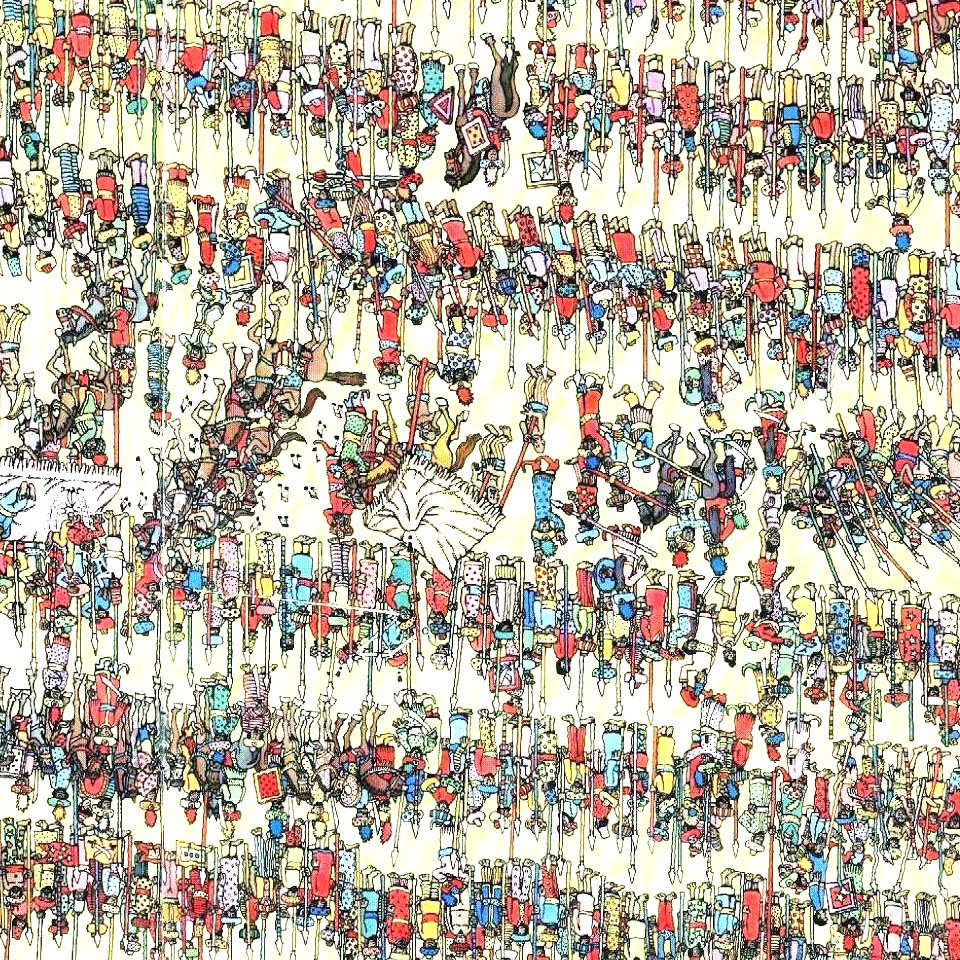waldo: (76, 796, 93, 823)
